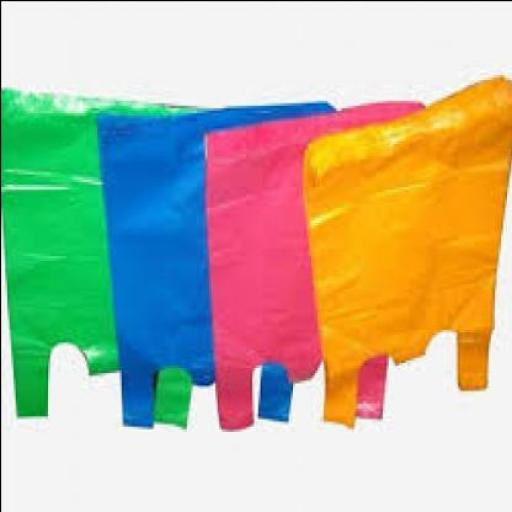plastic: (92, 104, 336, 430), (297, 79, 510, 431), (200, 100, 424, 433), (2, 92, 194, 431)
